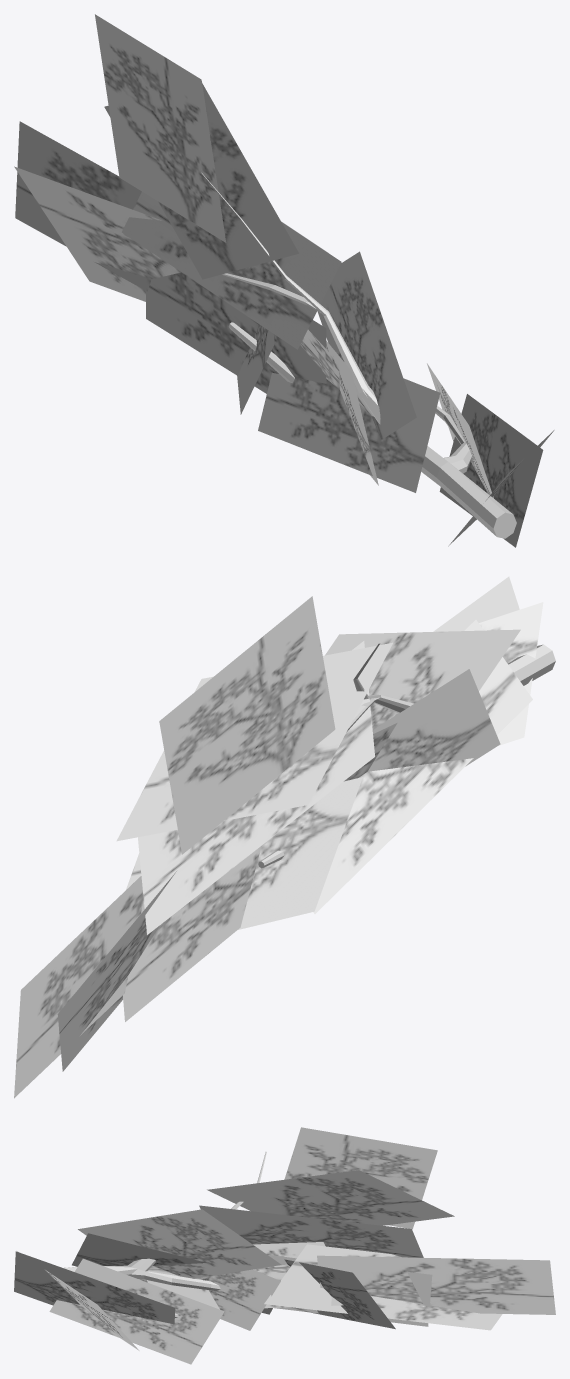
Rendered from ArbolAncho2.fbx.
The picture shows the model from 3 angles, top to bottom: view 1: azimuth 30°, elevation 25°; view 2: azimuth 150°, elevation 25°; view 3: azimuth 270°, elevation 25°; orthographic projection. The views are drawn at different scales.
Visible parts, largest first — view 1: Plane, Tallo; view 2: Plane, Tallo; view 3: Plane, Tallo.
Boxes of the visible parts, x1,y1,x2,y2 form: Plane: (14, 14, 554, 547); Tallo: (201, 172, 516, 538); Plane: (14, 576, 543, 1098); Tallo: (258, 643, 555, 868); Plane: (14, 1127, 555, 1364); Tallo: (63, 1151, 266, 1317).
Size of the model in its own units: 1.67 by 2.93 by 7.39.
1 material, 1 textured.
